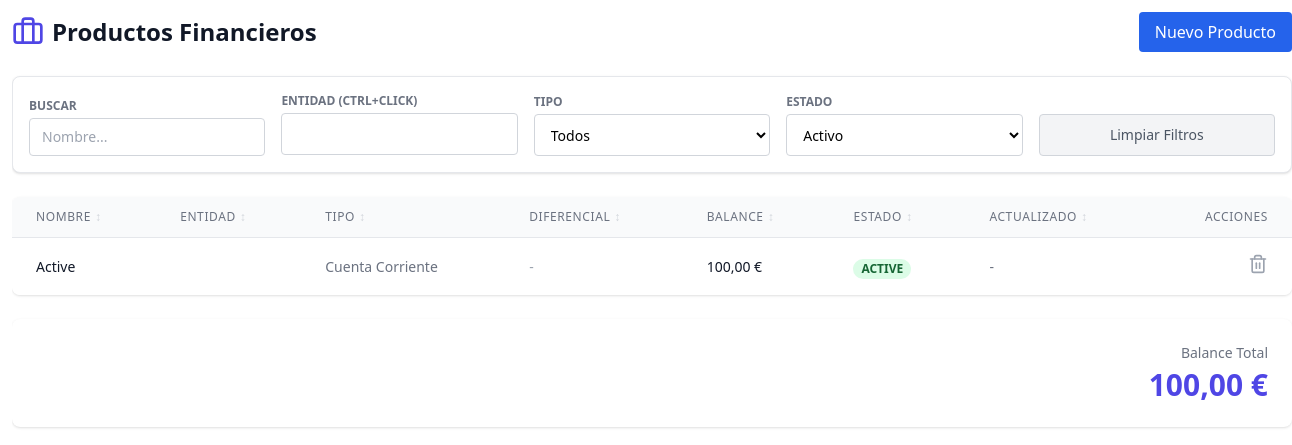
Test case: ProductsPage › filters products by status
This screenshot has width=1292, height=445.
Expected: the text "Active" is shown, [12,238,156,295]
Select "Pausado" in the dropdown labelled "Estado" at coordinates (904, 135), box [786,114,1023,156]
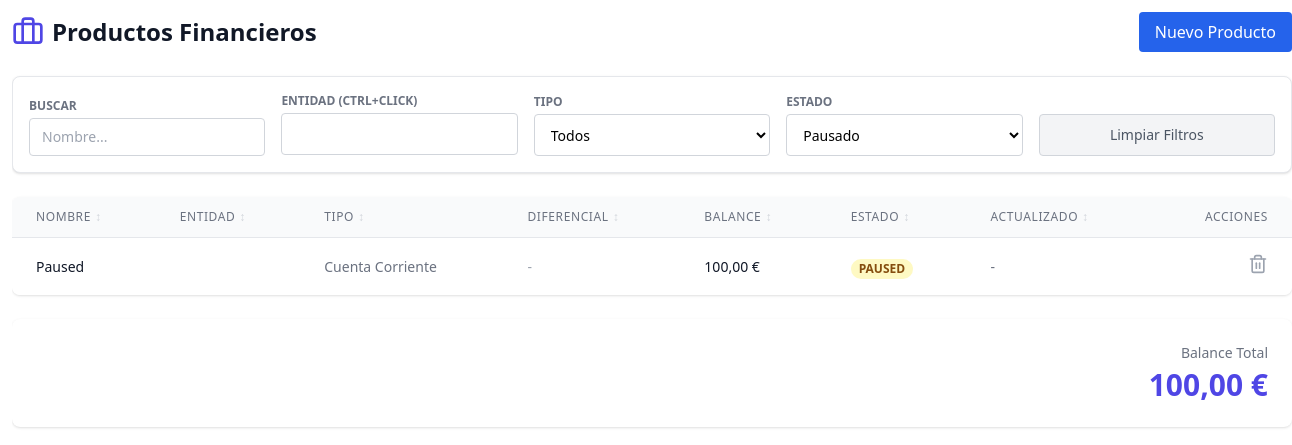
Expected: the text "Active" is gone
Expected: the text "Paused" is shown, [12,238,156,295]
